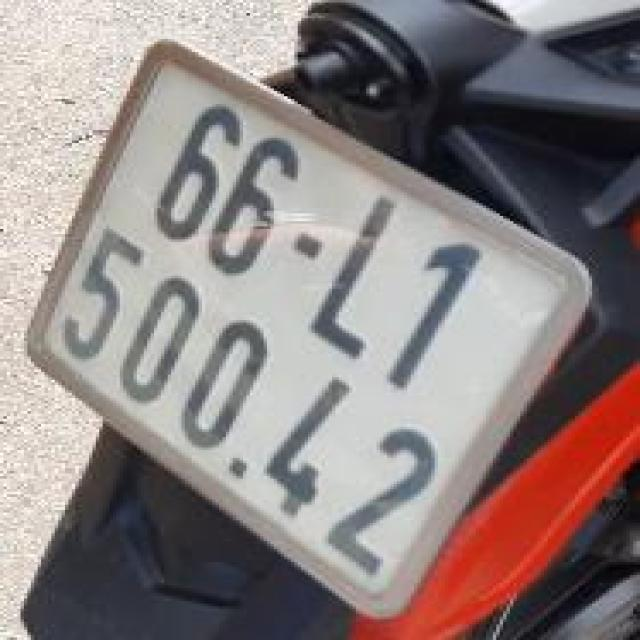0: (164, 295, 291, 463), (101, 256, 223, 420)
1: (367, 221, 509, 403)
2: (306, 413, 455, 593)
4: (245, 362, 389, 533)
5: (40, 212, 162, 379)
6: (194, 117, 321, 290), (142, 89, 264, 258)
L: (296, 171, 445, 375)
